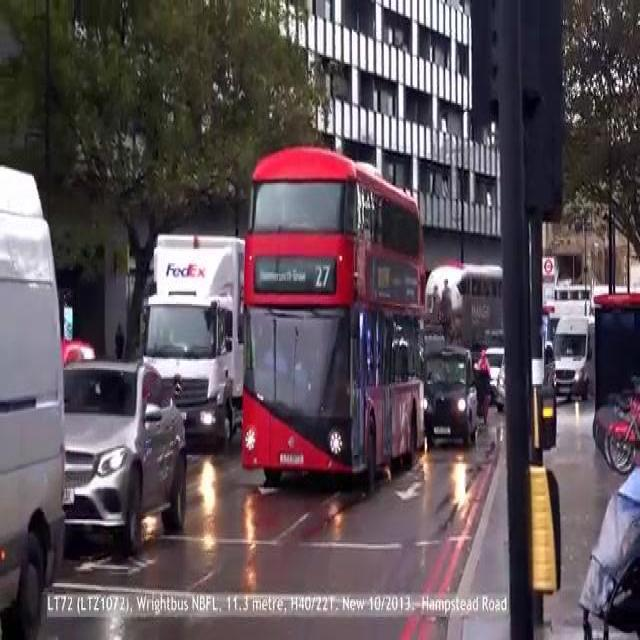bus: (236, 143, 431, 488), (423, 268, 501, 351)
